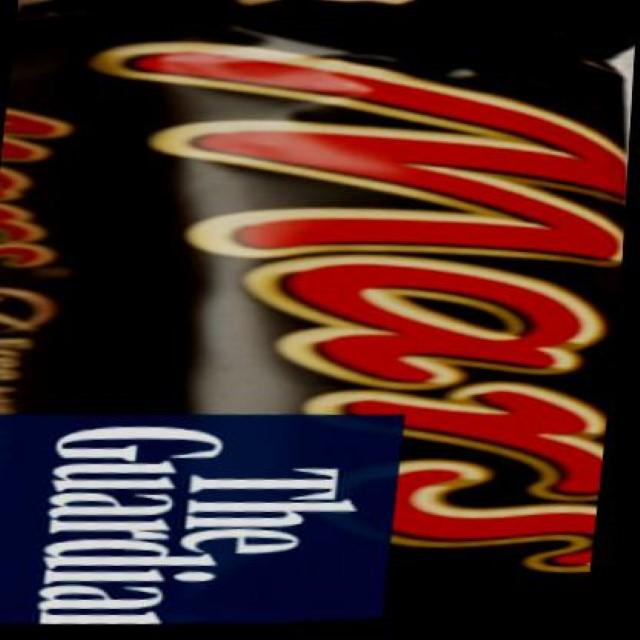mars_chocolate: (130, 17, 640, 578)
